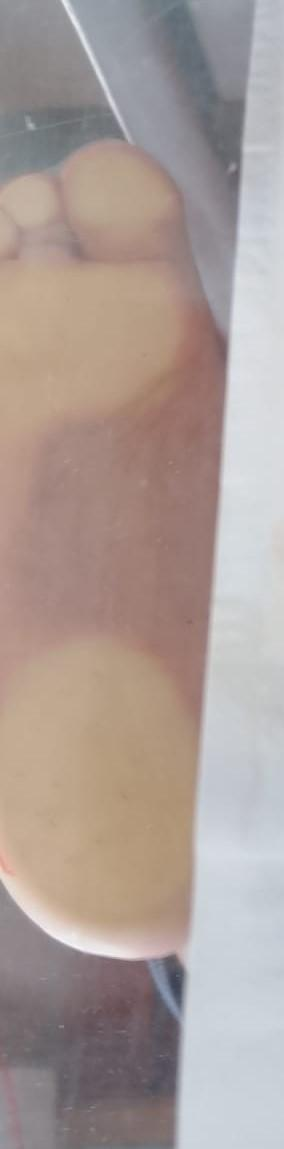Present: (7, 127, 243, 967)
